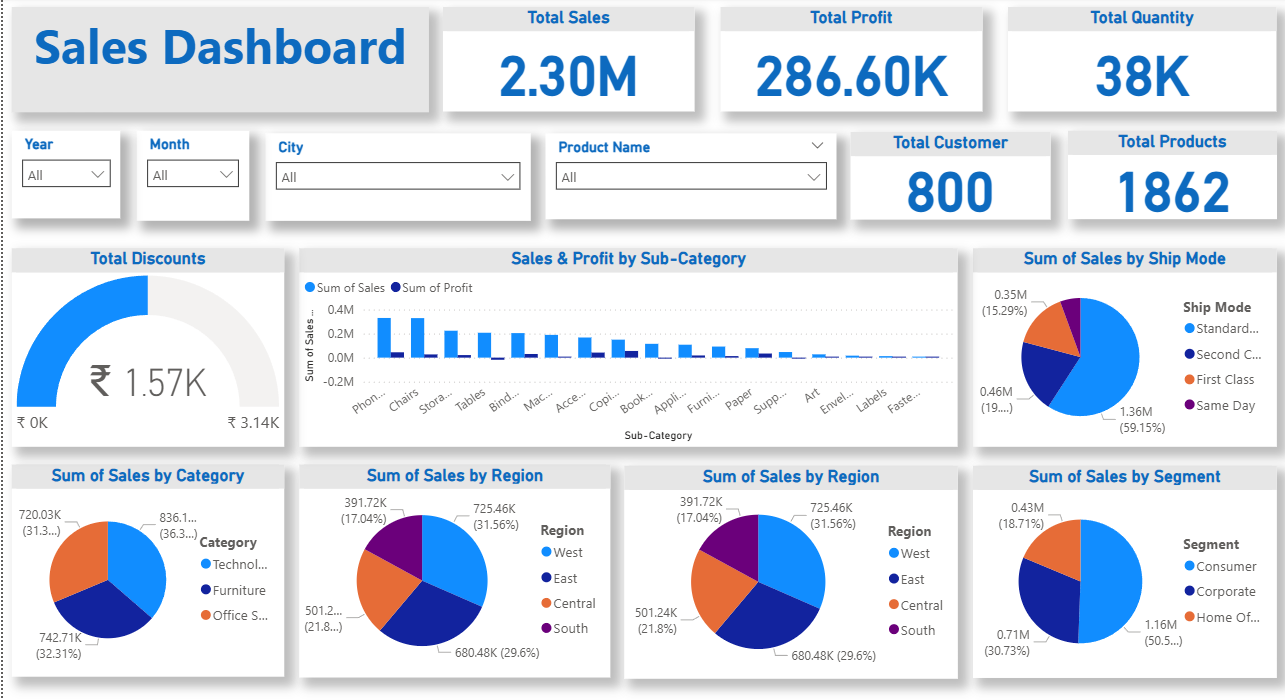

What the dashboard file says about the page in this screenshot:
{"tool":"powerbi","page":{"name":"Page 1","canvas":[1280,720],"ordinal":0},"visuals":[{"type":"textbox","box":[8.7,10,415.5,104.5],"z":0},{"type":"slicer","fields":{"Values":["Sales Overview Data xlsx - Sales Data.City"]},"box":[261.2,135.6,263.7,87.1],"z":1000},{"type":"slicer","fields":{"Values":["Sales Overview Data xlsx - Sales Data.Product Name"]},"box":[539.9,135.6,289.8,85.8],"z":2000},{"type":"slicer","fields":{"Values":["Sales Overview Data xlsx - Sales Data.Order Date.Variation.Date Hierarchy.Month"]},"box":[133.1,133.1,112,89.6],"z":3000},{"type":"slicer","fields":{"Values":["Sales Overview Data xlsx - Sales Data.Order Date.Variation.Date Hierarchy.Year"]},"box":[8.7,133.1,108.2,87.1],"z":4000},{"type":"card","title":"Total Sales","fields":{"Values":["Sum(Sales Overview Data xlsx - Sales Data.Sales)"]},"box":[437.6,10.4,250.1,104.2],"z":5000},{"type":"card","title":"Total Profit","fields":{"Values":["Sum(Sales Overview Data xlsx - Sales Data.Profit)"]},"box":[713.7,10.4,260.5,104.2],"z":6000},{"type":"card","title":"Total Quantity","fields":{"Values":["Sum(Sales Overview Data xlsx - Sales Data.Quantity)"]},"box":[1000.2,10.4,267,104.2],"z":7000},{"type":"card","title":"Total Customer","fields":{"Values":["Count(Sales Overview Data xlsx - Sales Data.Customer ID)"]},"box":[843.4,134.3,199,87.1],"z":8000},{"type":"card","title":"Total Products","fields":{"Values":["Count(Sales Overview Data xlsx - Sales Data.Product ID)"]},"box":[1059.9,133.1,207.7,88.3],"z":9000},{"type":"pieChart","fields":{"Y":["Sum(Sales Overview Data xlsx - Sales Data.Sales)"],"Category":["Sales Overview Data xlsx - Sales Data.Category"]},"box":[9.1,465,270.9,211],"z":10000},{"type":"pieChart","fields":{"Y":["Sum(Sales Overview Data xlsx - Sales Data.Sales)"],"Category":["Sales Overview Data xlsx - Sales Data.Region"]},"box":[294.3,465,310,212.3],"z":11000},{"type":"pieChart","fields":{"Y":["Sum(Sales Overview Data xlsx - Sales Data.Sales)"],"Category":["Sales Overview Data xlsx - Sales Data.Region"]},"box":[618.6,466.3,332.1,212.3],"z":12000},{"type":"pieChart","fields":{"Y":["Sum(Sales Overview Data xlsx - Sales Data.Sales)"],"Category":["Sales Overview Data xlsx - Sales Data.Segment"]},"box":[965.3,466.5,302.3,211.5],"z":13000},{"type":"pieChart","fields":{"Y":["Sum(Sales Overview Data xlsx - Sales Data.Sales)"],"Category":["Sales Overview Data xlsx - Sales Data.Ship Mode"]},"box":[965.3,250,302.3,197.8],"z":14000},{"type":"lineClusteredColumnComboChart","title":"Sales & Profit by Sub-Category","fields":{"Category":["Sales Overview Data xlsx - Sales Data.Sub-Category"],"Y":["Sum(Sales Overview Data xlsx - Sales Data.Sales)","Sum(Sales Overview Data xlsx - Sales Data.Profit)"]},"box":[294.8,250,655.6,197.8],"z":15000},{"type":"gauge","title":"Total Discounts","fields":{"Y":["Sum(Sales Overview Data xlsx - Sales Data.Discount)"]},"box":[8.7,250,271.2,197.8],"z":16000}]}

Visuals, with their boxes on the page's 1280x720 design canvas (x1, y1, x2, y2). These are canvas units, not pixel positions in the 1285x700 screenshot, which may show the page scaled, cropped or inside an application window:
textbox: BBox(9, 10, 424, 114)
slicer - Sales Overview Data xlsx - Sales Data.City: BBox(261, 136, 525, 223)
slicer - Sales Overview Data xlsx - Sales Data.Product Name: BBox(540, 136, 830, 221)
slicer - Sales Overview Data xlsx - Sales Data.Order Date.Variation.Date Hierarchy.Month: BBox(133, 133, 245, 223)
slicer - Sales Overview Data xlsx - Sales Data.Order Date.Variation.Date Hierarchy.Year: BBox(9, 133, 117, 220)
"Total Sales" card: BBox(438, 10, 688, 115)
"Total Profit" card: BBox(714, 10, 974, 115)
"Total Quantity" card: BBox(1000, 10, 1267, 115)
"Total Customer" card: BBox(843, 134, 1042, 221)
"Total Products" card: BBox(1060, 133, 1268, 221)
pieChart - Sum(Sales Overview Data xlsx - Sales Data.Sales) x Sales Overview Data xlsx - Sales Data.Category: BBox(9, 465, 280, 676)
pieChart - Sum(Sales Overview Data xlsx - Sales Data.Sales) x Sales Overview Data xlsx - Sales Data.Region: BBox(294, 465, 604, 677)
pieChart - Sum(Sales Overview Data xlsx - Sales Data.Sales) x Sales Overview Data xlsx - Sales Data.Region: BBox(619, 466, 951, 679)
pieChart - Sum(Sales Overview Data xlsx - Sales Data.Sales) x Sales Overview Data xlsx - Sales Data.Segment: BBox(965, 466, 1268, 678)
pieChart - Sum(Sales Overview Data xlsx - Sales Data.Sales) x Sales Overview Data xlsx - Sales Data.Ship Mode: BBox(965, 250, 1268, 448)
"Sales & Profit by Sub-Category" lineClusteredColumnComboChart: BBox(295, 250, 950, 448)
"Total Discounts" gauge: BBox(9, 250, 280, 448)
